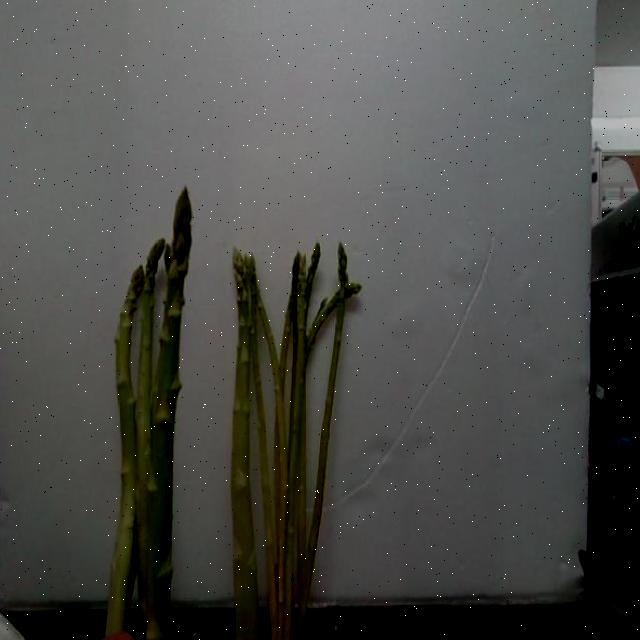aspargus: (141, 187, 194, 640)
